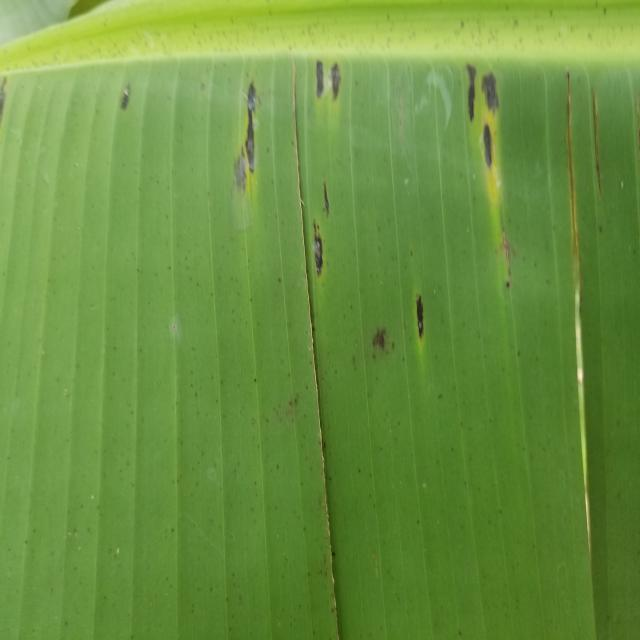Early_rust: (230, 58, 511, 377), (101, 69, 148, 133)
